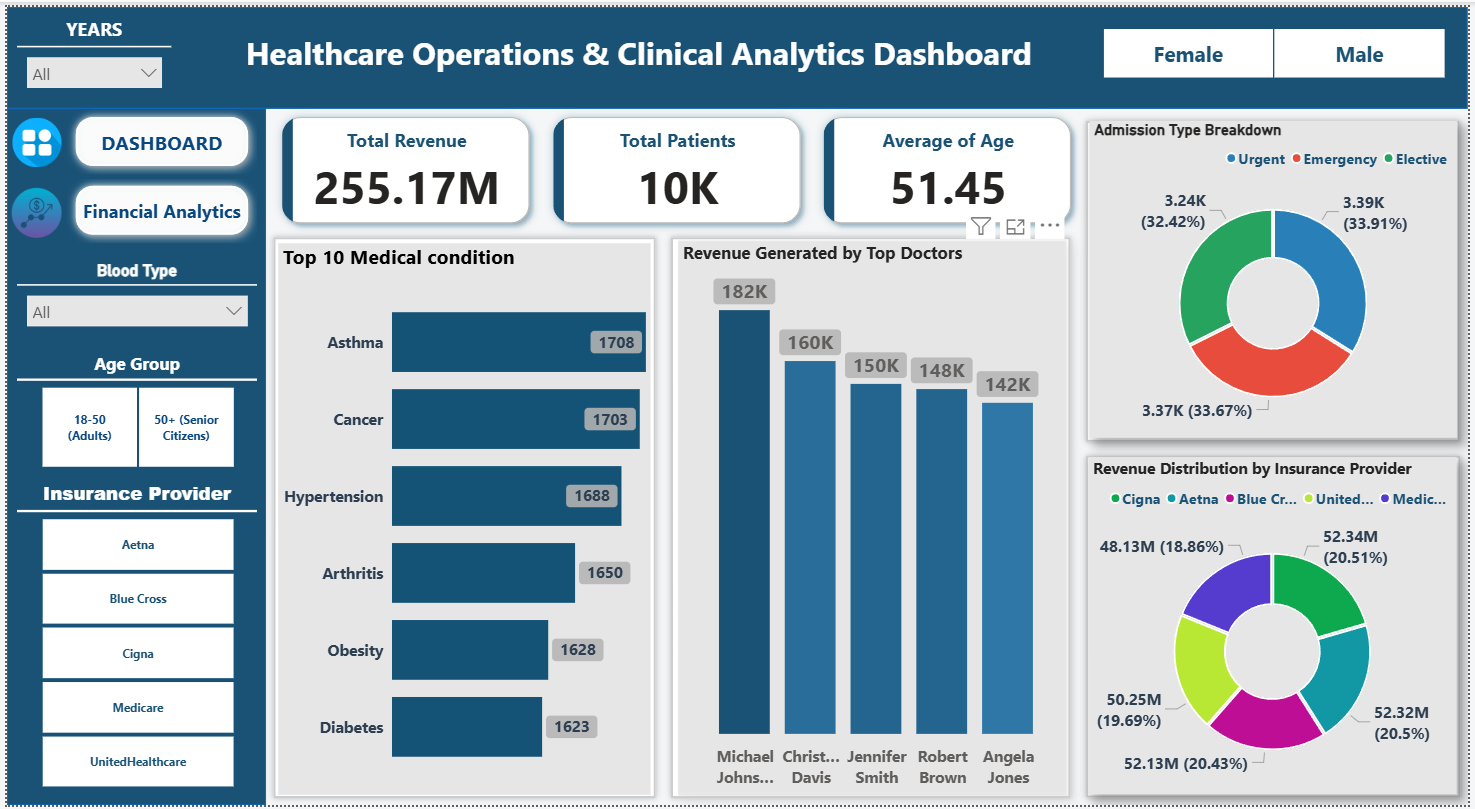

What the dashboard file says about the page in this screenshot:
{"tool":"powerbi","page":{"name":"Operational Insights","canvas":[1500,820],"ordinal":0},"visuals":[{"type":"shape","box":[0,0,1499.9,104.5],"z":0},{"type":"shape","box":[0,104.5,266,715.8],"z":1000},{"type":"cardVisual","fields":{"Data":["Sum(healthcare_dataset.Billing_Amount)","CountNonNull(healthcare_dataset.Name)","Avg(healthcare_dataset.Age)"]},"box":[266,96.1,845.4,143.4],"z":2000},{"type":"shape","box":[265.3,228.3,408.4,591.8],"z":3000},{"type":"shape","box":[673.8,228.3,426.1,591.8],"z":4000},{"type":"barChart","title":"Top 10 Medical condition","fields":{"Category":["healthcare_dataset.Medical_Condition"],"Y":["CountNonNull(healthcare_dataset.Name)"]},"box":[278.2,242.8,382.7,566],"z":5000},{"type":"shape","box":[1100.2,108.6,399.7,345.4],"z":6000},{"type":"columnChart","title":"Revenue Generated by Top Doctors","fields":{"Category":["healthcare_dataset.Doctor"],"Y":["Sum(healthcare_dataset.Billing_Amount)"]},"box":[689.4,239.5,398.3,569.6],"z":7000},{"type":"shape","box":[1099.9,453.5,400.4,366.6],"z":8000},{"type":"donutChart","title":"Revenue Distribution by Insurance Provider","fields":{"Y":["Sum(healthcare_dataset.Billing_Amount)"],"Category":["healthcare_dataset.Insurance_Provider"]},"box":[1110.8,462.5,378.3,346.7],"z":9000},{"type":"donutChart","title":"Admission Type Breakdown","fields":{"Category":["healthcare_dataset.Admission_Type"],"Y":["CountNonNull(healthcare_dataset.Name)"]},"box":[1111.4,117,377.4,325.9],"z":10000},{"type":"slicer","fields":{"Values":["healthcare_dataset.Gender"]},"box":[1100.2,15.3,399.7,64.1],"z":11000},{"type":"slicer","title":"Insurance Provider","fields":{"Values":["healthcare_dataset.Insurance_Provider"]},"box":[9.7,484.6,246.5,323.1],"z":12000},{"type":"textbox","box":[158.8,20.9,979,54.3],"z":13000},{"type":"slicer","title":"Blood Type","fields":{"Values":["healthcare_dataset.Blood_Type"]},"box":[9.7,260.4,246.5,73.8],"z":14000},{"type":"image","box":[0,108.6,61.3,59.9],"z":15000},{"type":"shape","box":[61.3,104.5,195,68.2],"z":16000},{"type":"shape","box":[61.3,174.1,195,68.2],"z":17000},{"type":"slicer","title":"Age Group","fields":{"Values":["healthcare_dataset.Age _Group"]},"box":[9.7,353.7,246.5,125.3],"z":18000},{"type":"image","box":[0,174.1,61.3,73.8],"z":19000},{"type":"slicer","title":"YEARS","fields":{"Values":["healthcare_dataset.Date_of_Admission.Variation.Date Hierarchy.Year"]},"box":[9.7,9.7,158.8,73.8],"z":19001}]}

Visuals, with their boxes in screenshot pixels (x1, y1, x2, y2), scaled from the page's 1500x820 canvas onto the 1475x809 screenshot:
shape: left=0, top=0, right=1474, bottom=103
shape: left=0, top=103, right=262, bottom=808
cardVisual - Sum(healthcare_dataset.Billing_Amount) x CountNonNull(healthcare_dataset.Name): left=262, top=95, right=1093, bottom=236
shape: left=261, top=225, right=662, bottom=808
shape: left=663, top=225, right=1082, bottom=808
"Top 10 Medical condition" barChart: left=274, top=240, right=650, bottom=798
shape: left=1082, top=107, right=1474, bottom=448
"Revenue Generated by Top Doctors" columnChart: left=678, top=236, right=1070, bottom=798
shape: left=1082, top=447, right=1474, bottom=808
"Revenue Distribution by Insurance Provider" donutChart: left=1092, top=456, right=1464, bottom=798
"Admission Type Breakdown" donutChart: left=1093, top=115, right=1464, bottom=437
slicer - healthcare_dataset.Gender: left=1082, top=15, right=1474, bottom=78
"Insurance Provider" slicer: left=10, top=478, right=252, bottom=797
textbox: left=156, top=21, right=1119, bottom=74
"Blood Type" slicer: left=10, top=257, right=252, bottom=330
image: left=0, top=107, right=60, bottom=166
shape: left=60, top=103, right=252, bottom=170
shape: left=60, top=172, right=252, bottom=239
"Age Group" slicer: left=10, top=349, right=252, bottom=473
image: left=0, top=172, right=60, bottom=245
"YEARS" slicer: left=10, top=10, right=166, bottom=82
